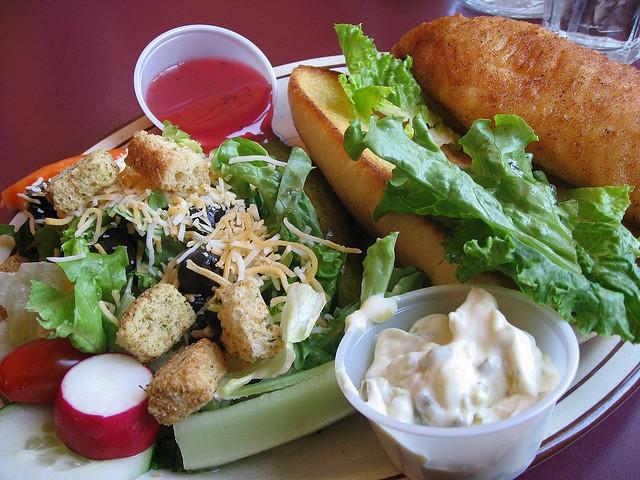lettuce: (334, 23, 442, 127), (218, 139, 283, 220), (263, 146, 317, 243), (221, 360, 335, 400), (360, 231, 400, 306), (177, 249, 223, 314), (280, 283, 327, 343), (212, 136, 270, 170), (384, 266, 431, 298), (18, 216, 40, 262), (302, 347, 335, 370), (162, 120, 191, 143), (60, 237, 90, 257), (148, 188, 168, 218)
radish: (54, 352, 160, 460), (0, 336, 98, 404)
